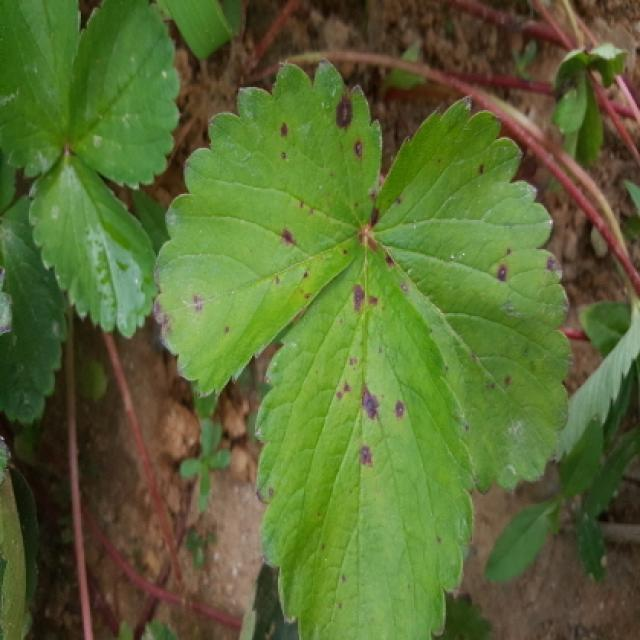Leaf Spot: (252, 230, 478, 638), (366, 95, 574, 498), (149, 54, 382, 398)
